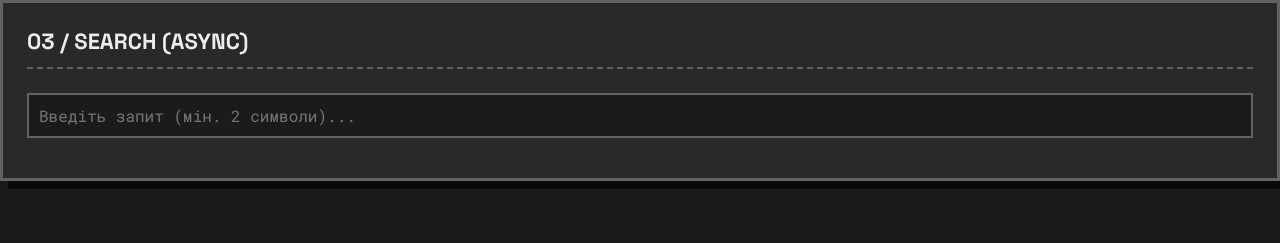
Test: SearchResults › відображає результати після пошуку
In the field named "search-input": (640, 116) [27,93,1253,138], type "тест"
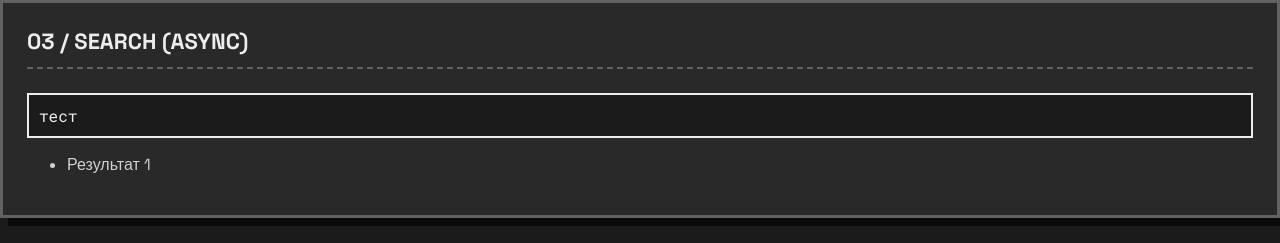
Check: the list item "Результат 1" is shown, box [67,154,151,175]
